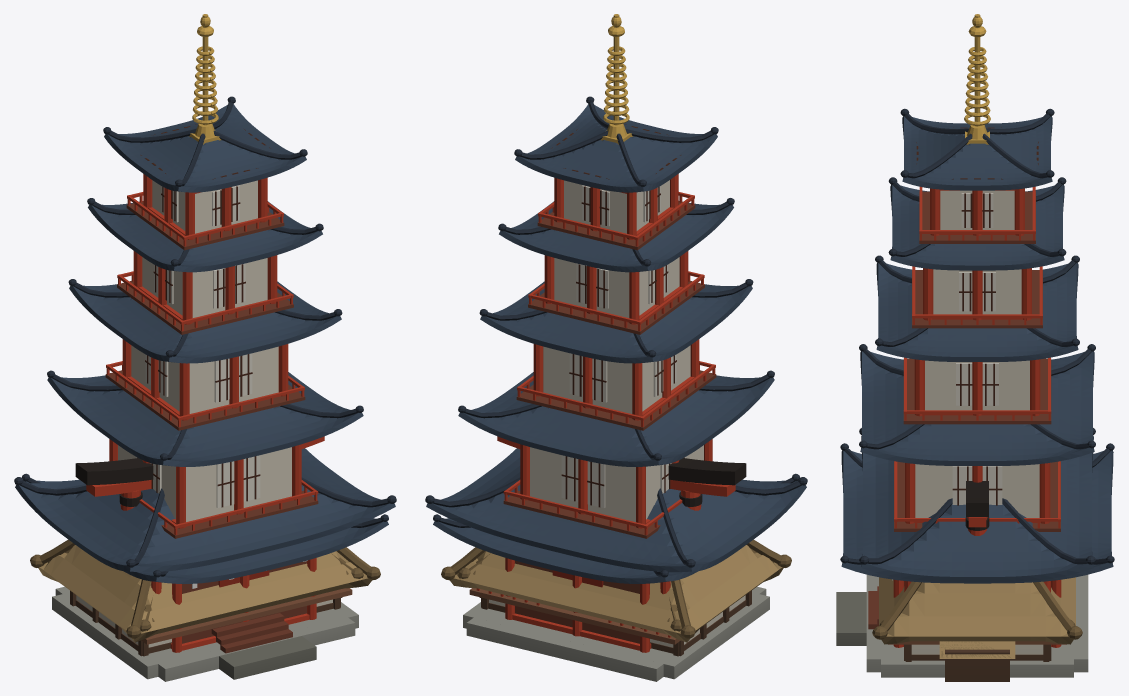
File: architecture.glb
The picture shows the model from 3 angles, left to right: view 1: azimuth 30°, elevation 25°; view 2: azimuth 150°, elevation 25°; view 3: azimuth 270°, elevation 25°; orthographic projection.
Parts seen in each view (by area): view 1: honden_roof, pagoda_roof1, minka1_roof, pagoda_tier2, honden_hall, pagoda_tier1, pagoda_roof4, pagoda_roof2, pagoda_tier3, pagoda_tier4, pagoda_roof3, pagoda_roof0 (+5 smaller); view 2: honden_roof, pagoda_roof1, minka1_roof, pagoda_tier2, pagoda_tier1, pagoda_roof4, pagoda_roof2, pagoda_tier3, pagoda_tier4, pagoda_roof3, honden_hall, pagoda_roof0 (+5 smaller); view 3: honden_roof, pagoda_roof1, minka1_roof, pagoda_roof2, pagoda_roof4, pagoda_tier2, pagoda_tier1, pagoda_tier3, pagoda_roof3, pagoda_tier4, pagoda_roof0, honden_hall (+6 smaller).
Part boxes in pixels (box(x1,y1,x2,y2)): honden_roof: box(14, 448, 396, 572); pagoda_roof1: box(47, 370, 363, 466); minka1_roof: box(30, 539, 380, 642); pagoda_tier2: box(105, 339, 305, 430); honden_hall: box(52, 560, 358, 679); pagoda_tier1: box(109, 439, 318, 538); pagoda_roof4: box(103, 96, 307, 192); pagoda_roof2: box(68, 279, 342, 363); pagoda_tier3: box(117, 251, 293, 334); pagoda_tier4: box(126, 124, 284, 250); pagoda_roof3: box(87, 198, 323, 272); pagoda_roof0: box(22, 473, 388, 583); honden_roof: box(425, 448, 807, 572); pagoda_roof1: box(458, 370, 774, 466); minka1_roof: box(441, 539, 791, 642); pagoda_tier2: box(516, 339, 716, 430); pagoda_tier1: box(503, 439, 712, 538); pagoda_roof4: box(514, 96, 718, 192); pagoda_roof2: box(479, 279, 753, 363); pagoda_tier3: box(528, 251, 704, 334); pagoda_tier4: box(537, 124, 695, 250); pagoda_roof3: box(498, 198, 734, 272); honden_hall: box(463, 581, 769, 679); pagoda_roof0: box(433, 473, 799, 583); honden_roof: box(859, 428, 1095, 582); pagoda_roof1: box(859, 344, 1095, 465); minka1_roof: box(872, 577, 1082, 644); pagoda_roof2: box(875, 255, 1079, 361); pagoda_roof4: box(900, 108, 1054, 190); pagoda_tier2: box(903, 357, 1051, 424); pagoda_tier1: box(894, 461, 1060, 531); pagoda_tier3: box(912, 266, 1042, 328); pagoda_roof3: box(888, 177, 1066, 270); pagoda_tier4: box(916, 127, 1038, 243); pagoda_roof0: box(840, 443, 1114, 583); honden_hall: box(836, 579, 1073, 677).
Size of the model in its own units: 176 by 377 by 156.
